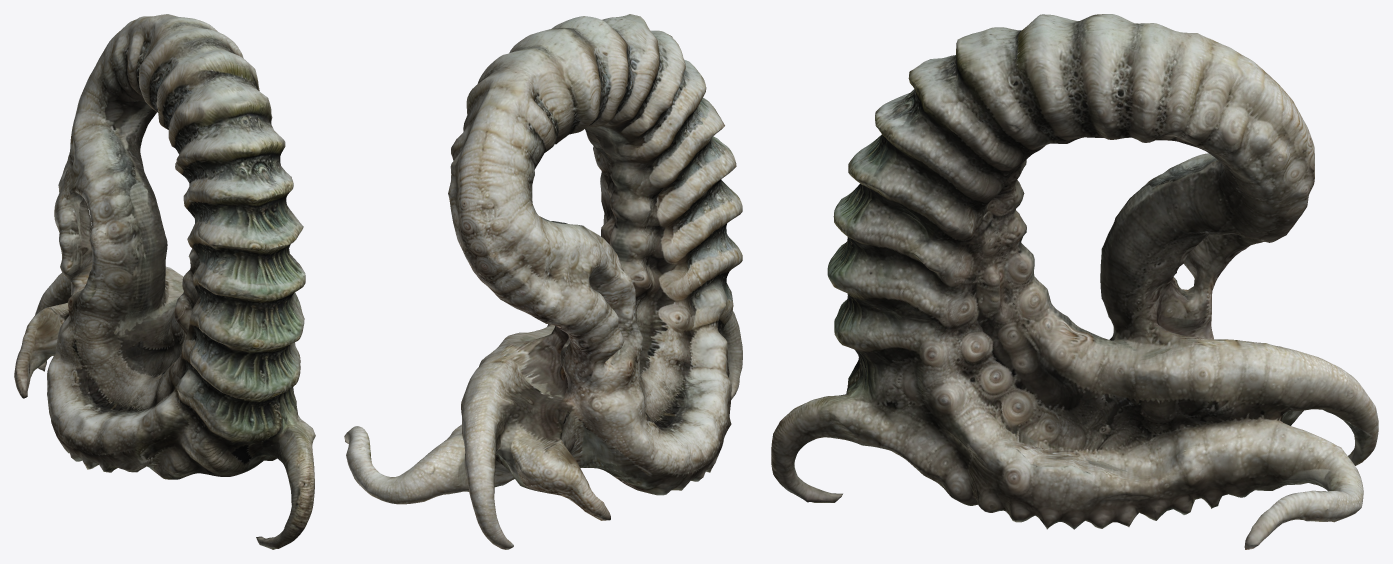
File: free_eldritch_horror_inspired_creature.glb
3 renders of one model, left to right at view 1: azimuth 30°, elevation 25°; view 2: azimuth 150°, elevation 25°; view 3: azimuth 270°, elevation 25°, orthographic. The views are drawn at different scales.
Parts seen in each view (by area): view 1: Mesh_0_Material_0_0; view 2: Mesh_0_Material_0_0; view 3: Mesh_0_Material_0_0.
Part boxes in pixels (x1,y1,x2,y2): Mesh_0_Material_0_0: (14, 14, 315, 549); Mesh_0_Material_0_0: (344, 14, 742, 549); Mesh_0_Material_0_0: (771, 14, 1378, 549).
Bounding box in the file's own units: 0.7454 × 1.11 × 1.2.
Materials: 1 (1 with a texture image).
